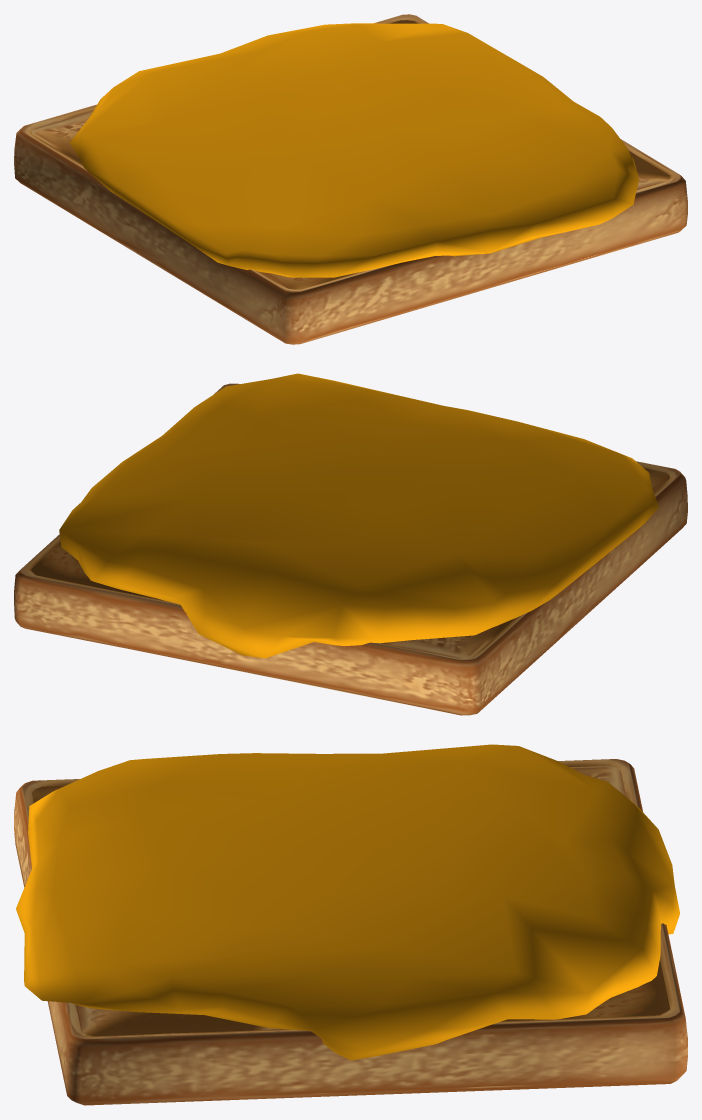
Rendered from toast_bottom.obj.
The picture shows the model from 3 angles, top to bottom: view 1: azimuth 30°, elevation 25°; view 2: azimuth 150°, elevation 25°; view 3: azimuth 270°, elevation 25°; orthographic projection. The views are drawn at different scales.
Parts seen in each view (by area): view 1: obj3, obj1; view 2: obj3, obj1; view 3: obj3, obj1.
Part boxes in pixels (x1,y1,x2,y2): obj3: (69, 23, 638, 277); obj1: (14, 14, 687, 344); obj3: (59, 373, 658, 658); obj1: (14, 383, 687, 715); obj3: (16, 744, 679, 1060); obj1: (14, 759, 687, 1105).
Size of the model in its own units: 0.1956 by 0.0467 by 0.1952.
2 materials, 2 textured.
